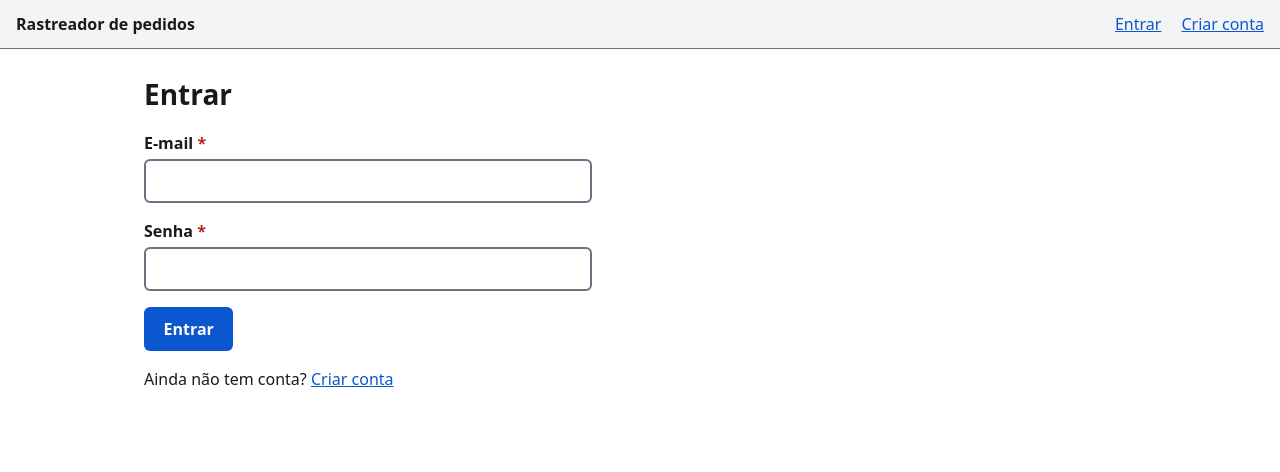
Scenario: LoginPage › senha errada: mensagem genérica em role="alert" e senha limpa
Check: the heading "Entrar" is shown, box [144,75,232,113]
Type "ana@exemplo.com" into the field labelled "E-mail *" at (368, 181), box [144,159,592,203]
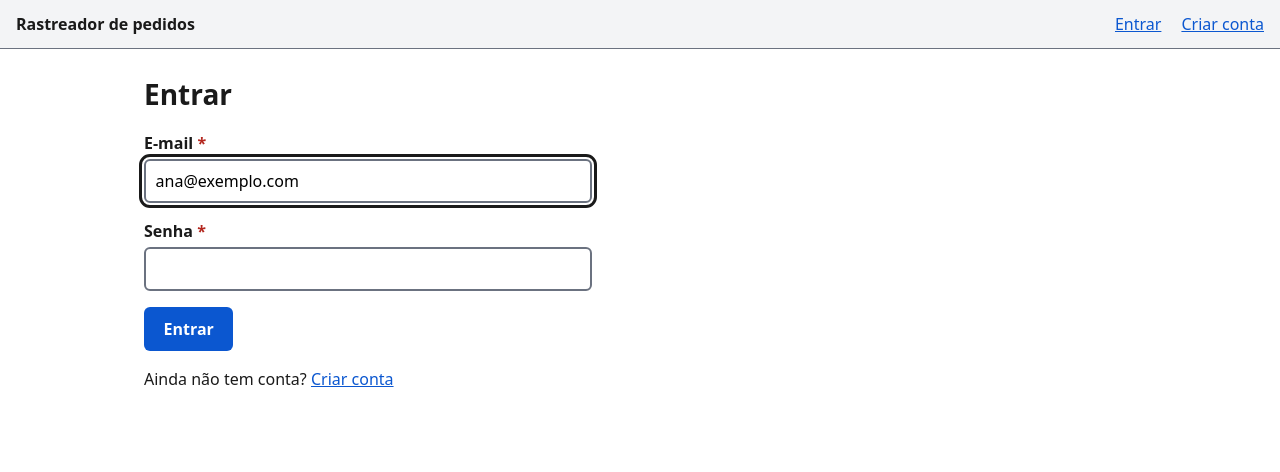
Type "errada123" into the password field labelled "Senha *" at (368, 269), box [144,247,592,291]
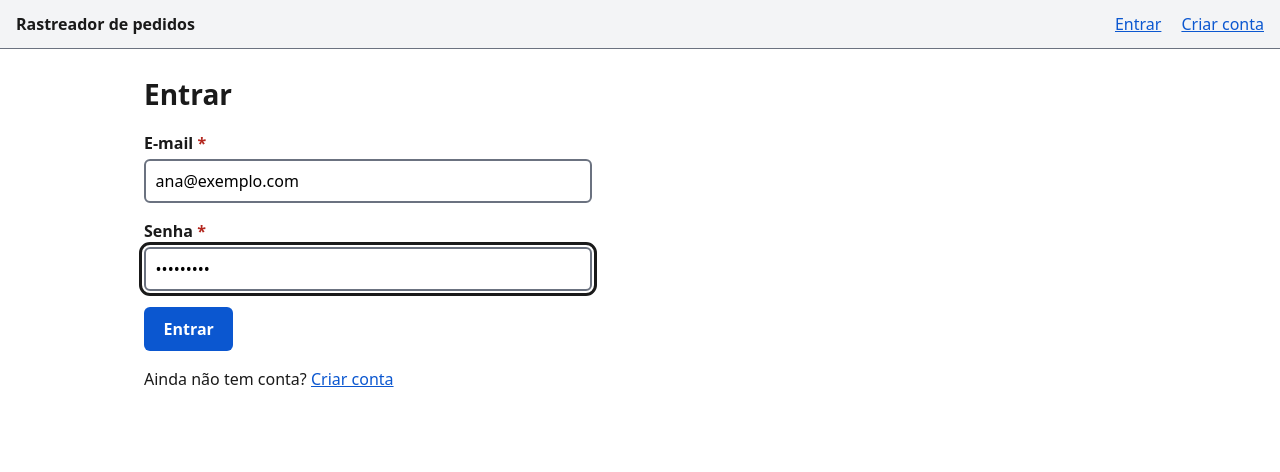
Click the button "Entrar" at (189, 329), box [144,307,234,351]
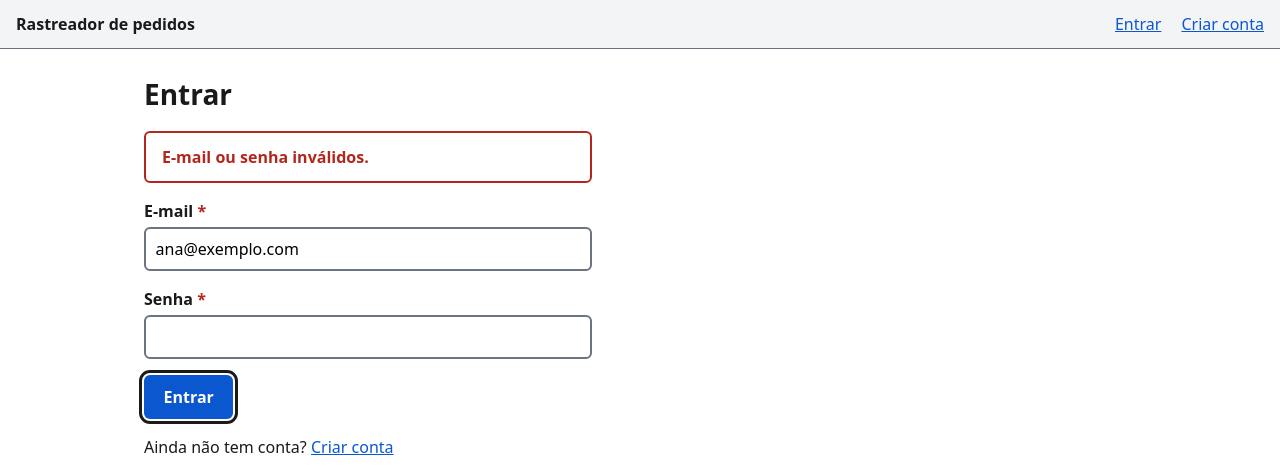
Check: the message reads "E-mail ou senha inválidos.", box [162,146,369,168]
Check: the password field labelled "Senha *" is empty, box [144,315,592,359]
